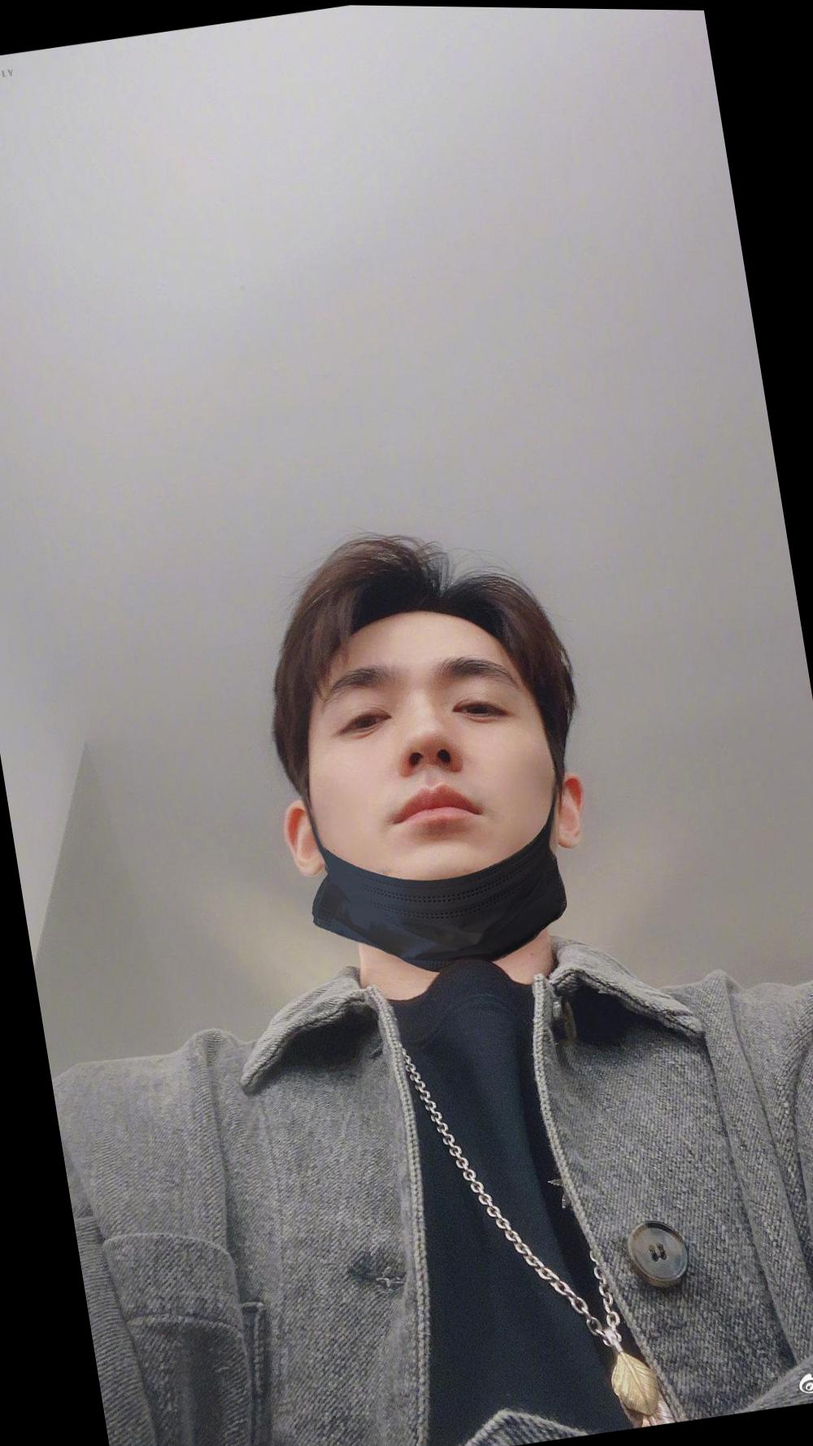WRONG: (293, 608, 566, 936)
